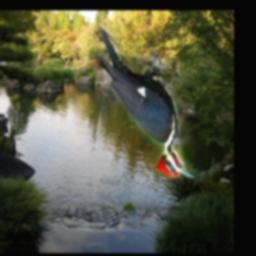Woodpecker: (95, 25, 196, 179)
